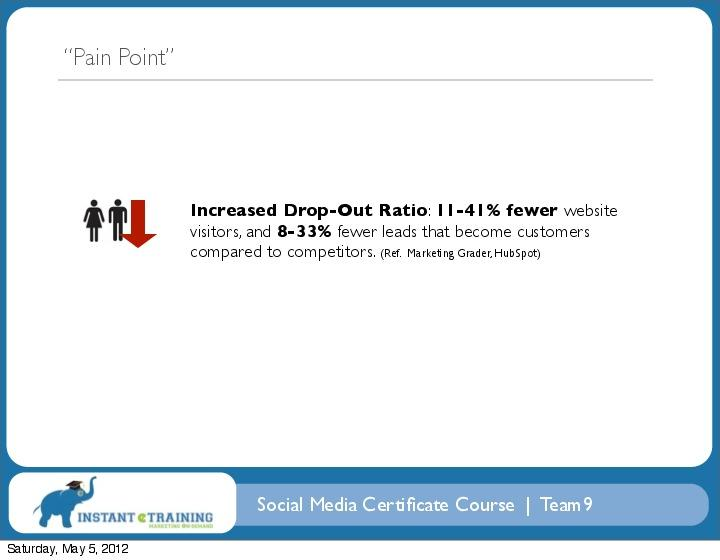paragraph: (162, 163, 655, 302)
title: (54, 31, 188, 72)
